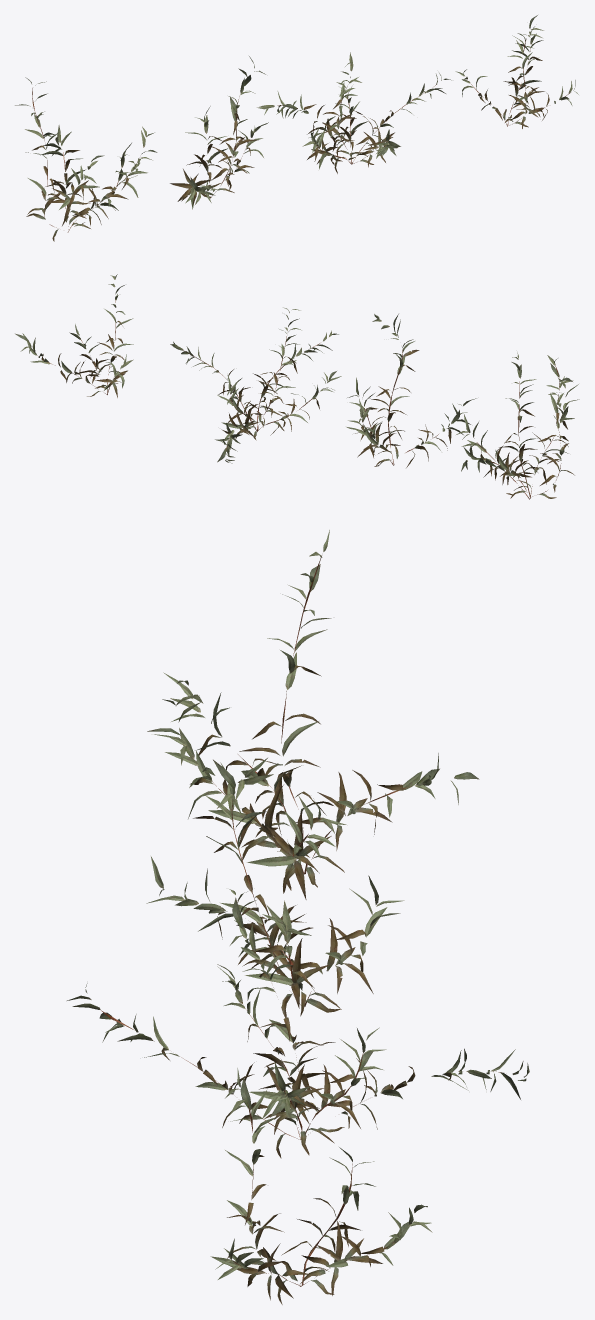
File: bush.glb
3 renders of one model, top to bottom at view 1: azimuth 30°, elevation 25°; view 2: azimuth 150°, elevation 25°; view 3: azimuth 270°, elevation 25°, orthographic. The views are drawn at different scales.
Visible parts, largest first — view 1: shrub_02_c, shrub_02_a, shrub_02_b, shrub_02_d; view 2: shrub_02_a, shrub_02_c, shrub_02_b, shrub_02_d; view 3: shrub_02_a, shrub_02_c, shrub_02_b, shrub_02_d.
Part boxes in pixels (x1=…): shrub_02_c: x1=257, y1=52, x2=451, y2=173; shrub_02_a: x1=15, y1=77, x2=157, y2=241; shrub_02_b: x1=170, y1=56, x2=268, y2=209; shrub_02_d: x1=455, y1=15, x2=578, y2=128; shrub_02_a: x1=456, y1=352, x2=579, y2=499; shrub_02_c: x1=170, y1=307, x2=341, y2=463; shrub_02_b: x1=346, y1=314, x2=476, y2=467; shrub_02_d: x1=15, y1=274, x2=133, y2=397; shrub_02_a: x1=147, y1=530, x2=479, y2=899; shrub_02_c: x1=67, y1=889, x2=529, y2=1158; shrub_02_b: x1=146, y1=758, x2=404, y2=1017; shrub_02_d: x1=210, y1=1068, x2=432, y2=1304.
Bounding box in the file's own units: 6.05 × 1.7 × 2.28.
1 material, 1 textured.
